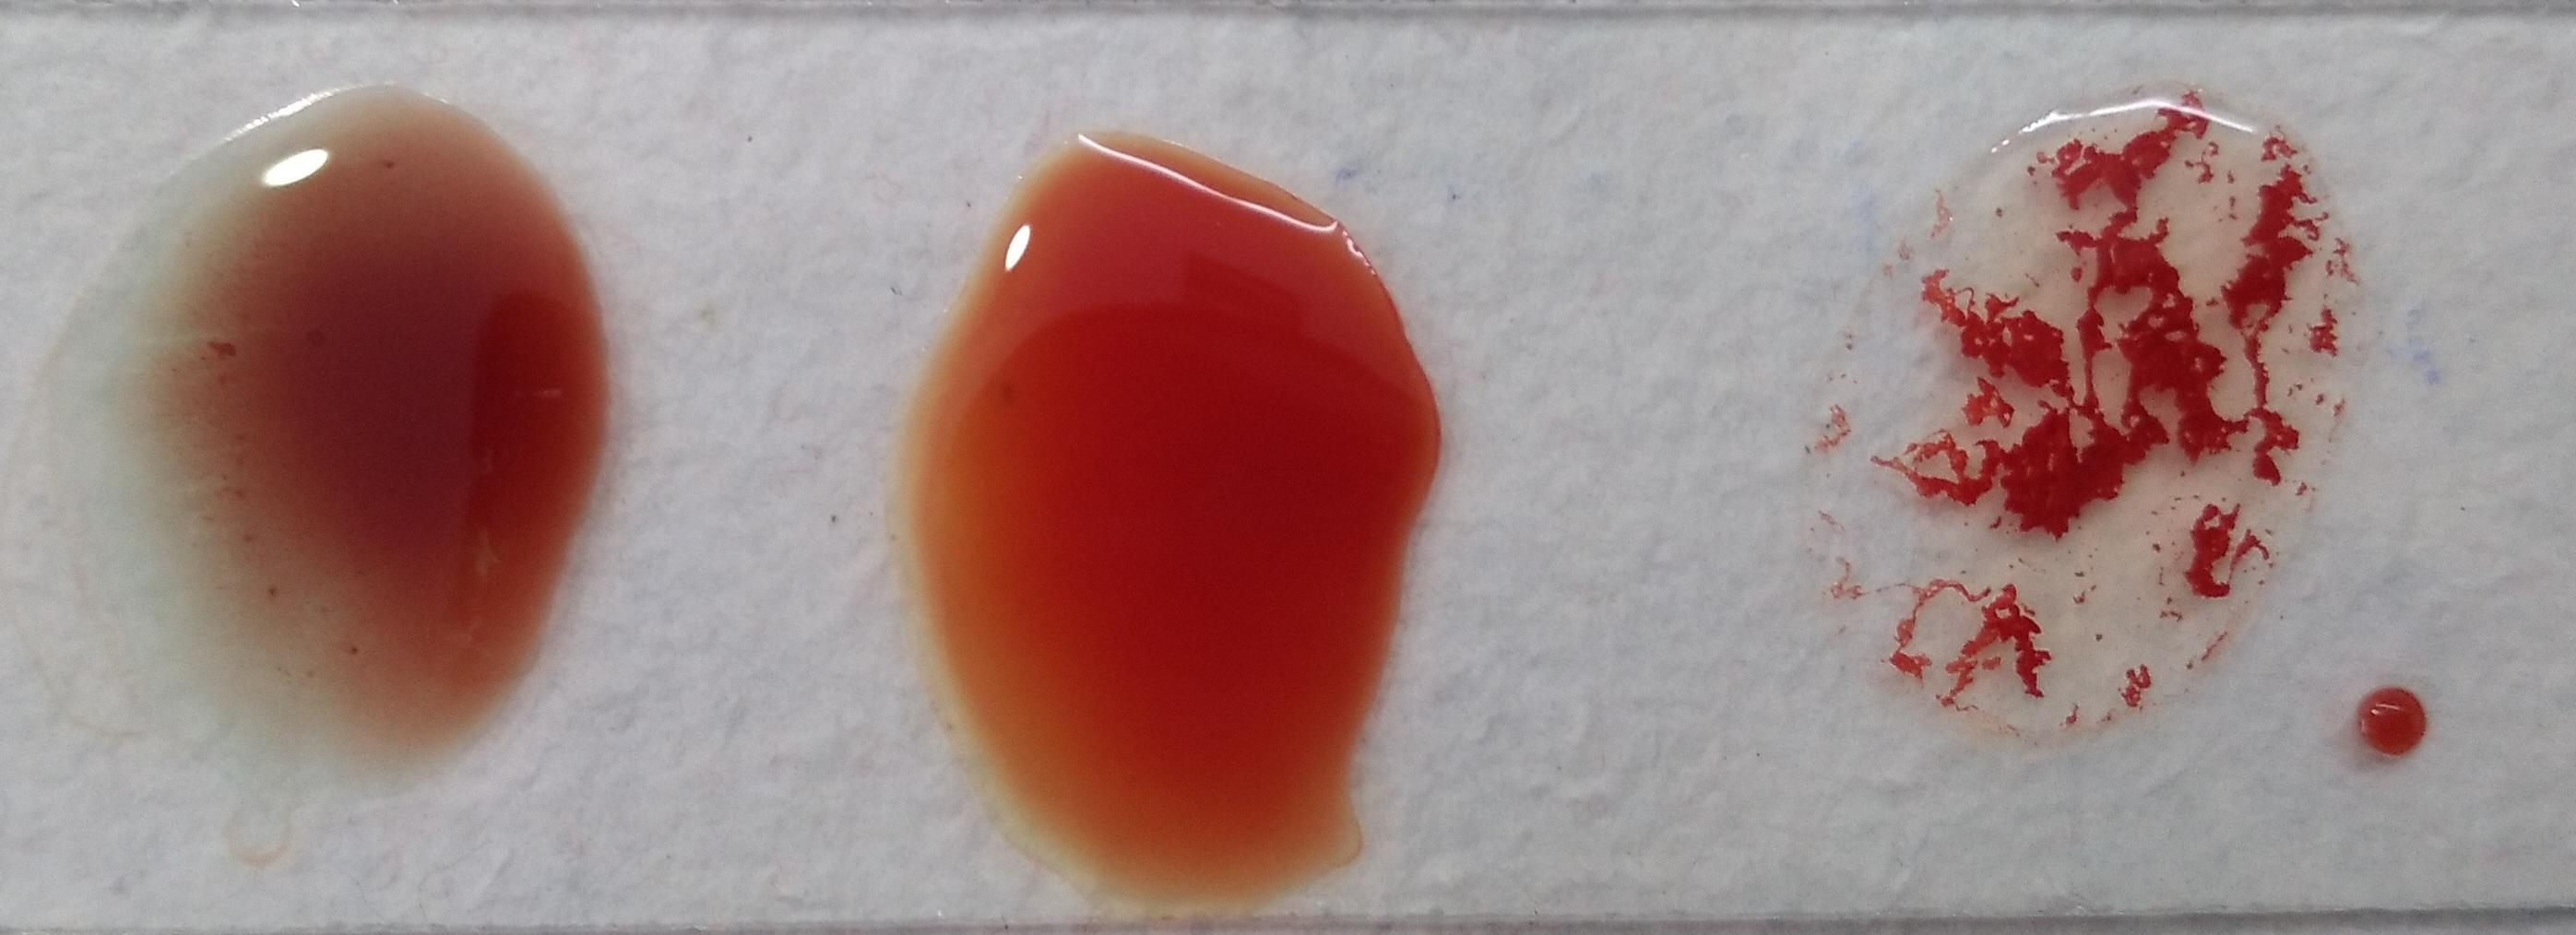D: (1843, 100, 2343, 723)
